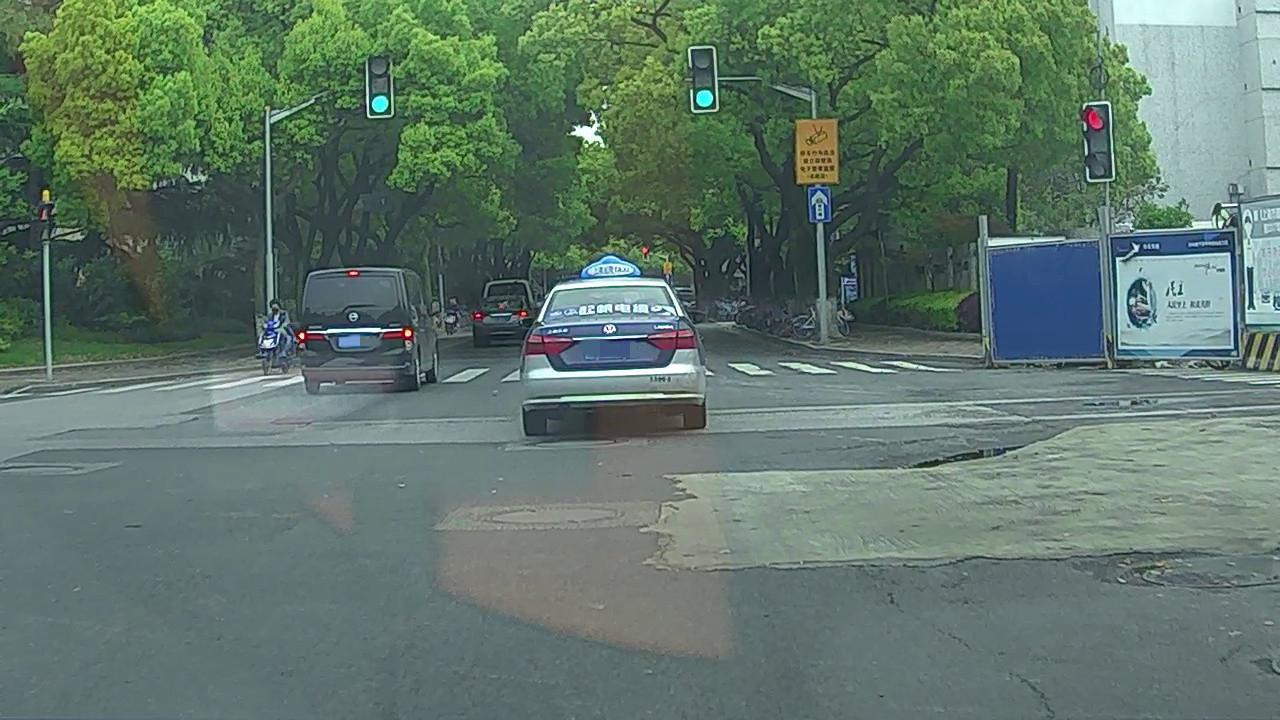traffic_light: (693, 45, 719, 110), (371, 53, 393, 116)
